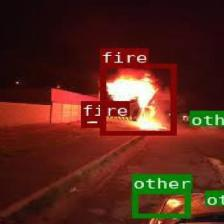fire: (100, 63, 175, 134), (80, 116, 101, 126)
